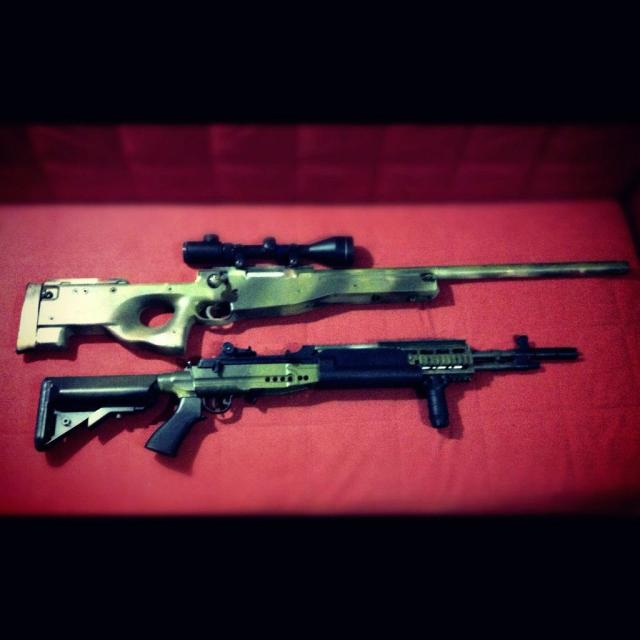firearm: (16, 234, 631, 357), (32, 332, 580, 458)
